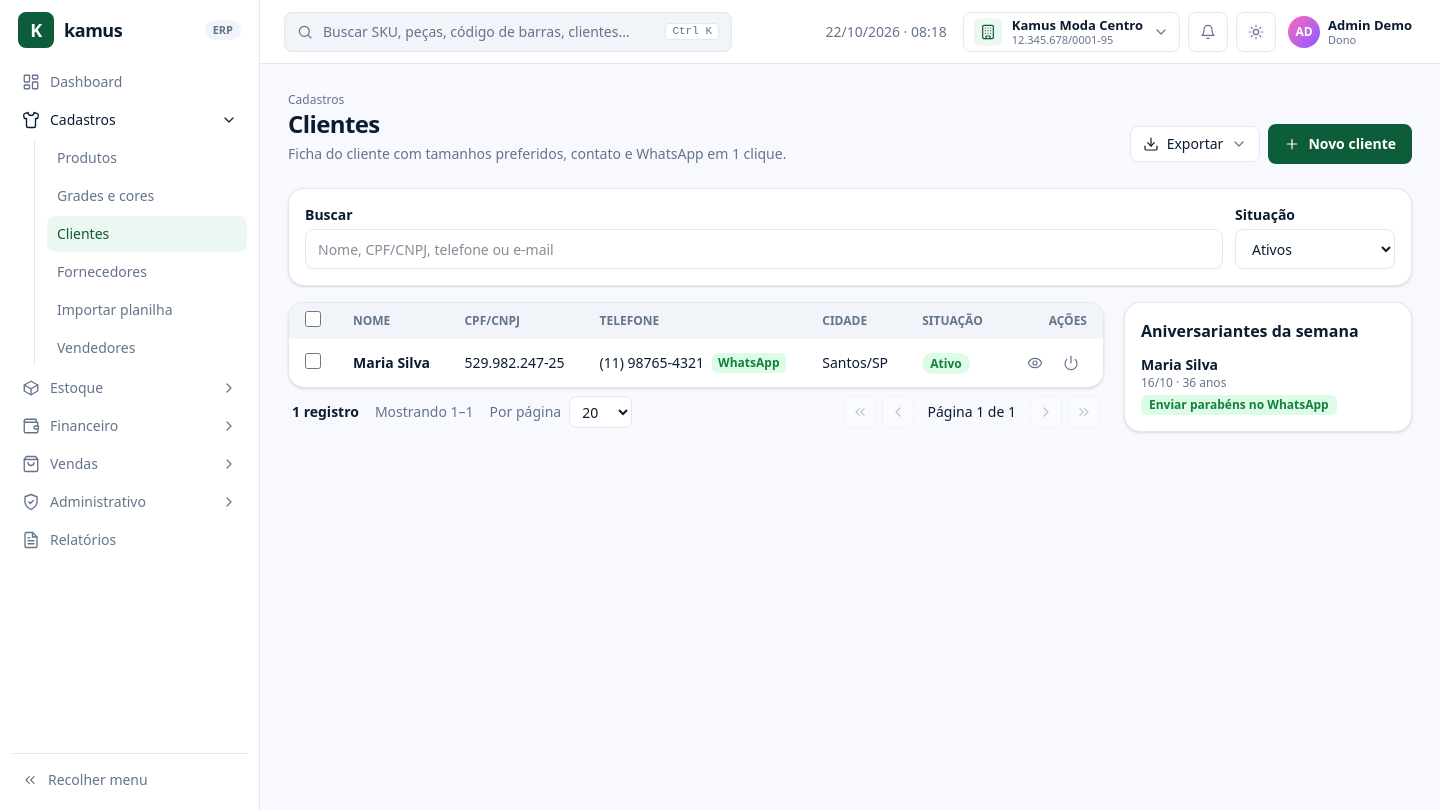
Test: Cadastros → Clientes › seleção: inativa em lote e exporta só os selecionados
Expected: the cell "Maria Silva" is shown, [337,339,448,387]
Step 1. Click the checkbox named "Selecionar Maria Silva" → x=313, y=360, box [305,352,321,368]
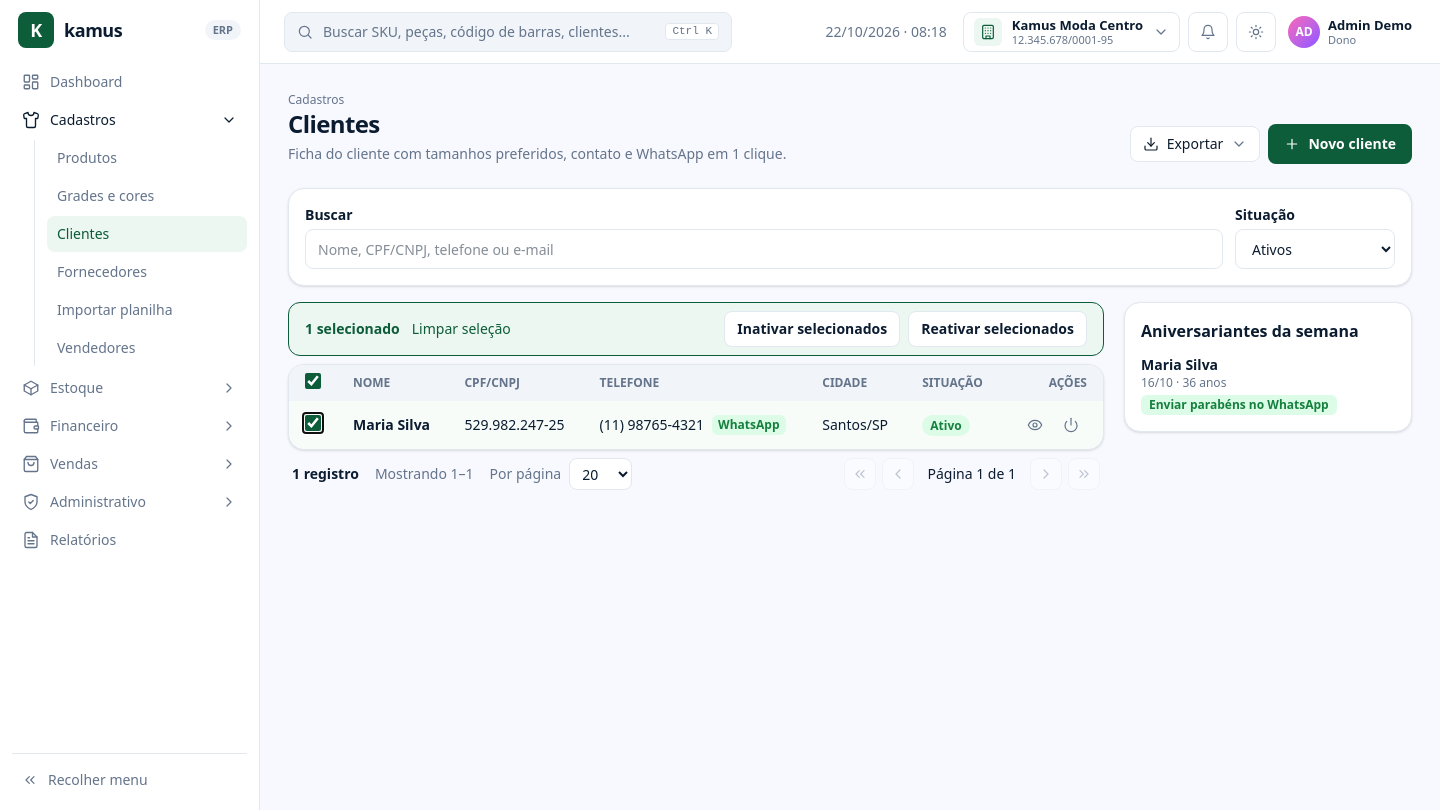
Expected: the element "seleção" shows "1 selecionado", [305,319,400,338]
Step 2. Click the button "Exportar" → x=1195, y=144, box [1130,126,1260,162]
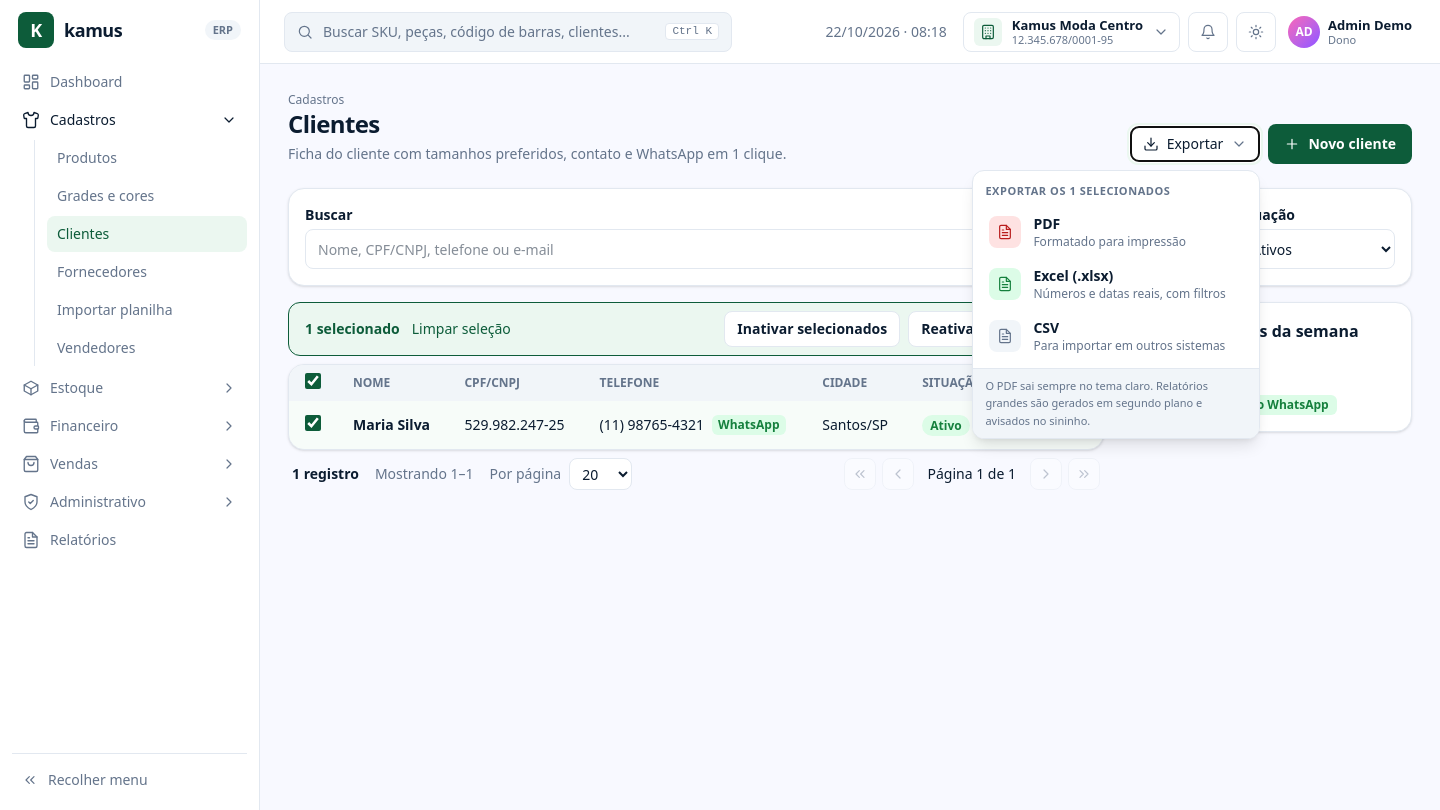
Step 3. Click the menu item "CSV Para importar em outros sistemas" → x=1116, y=336, box [979,310,1253,362]
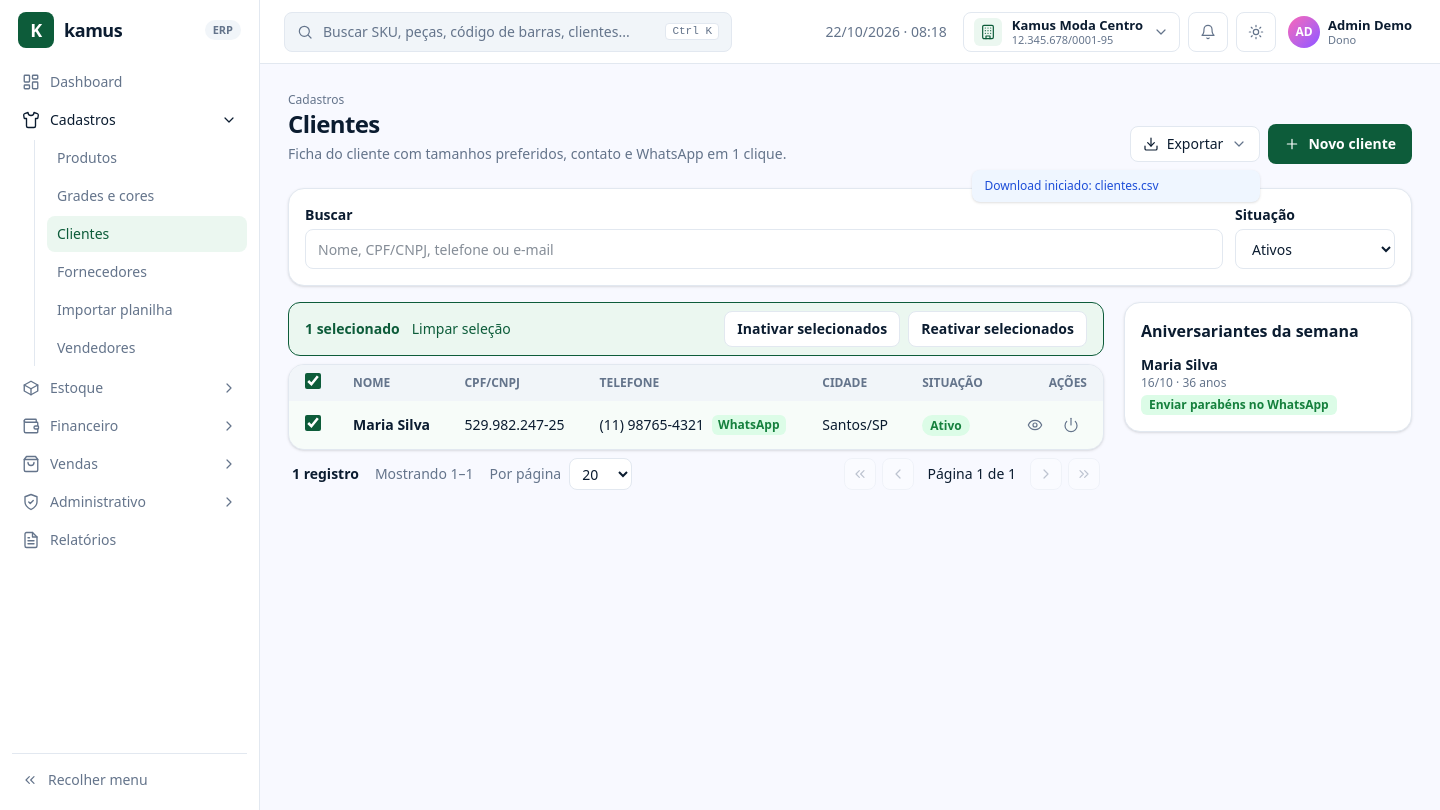
Step 4. Click the button "Inativar selecionados" → x=812, y=329, box [724,311,900,347]
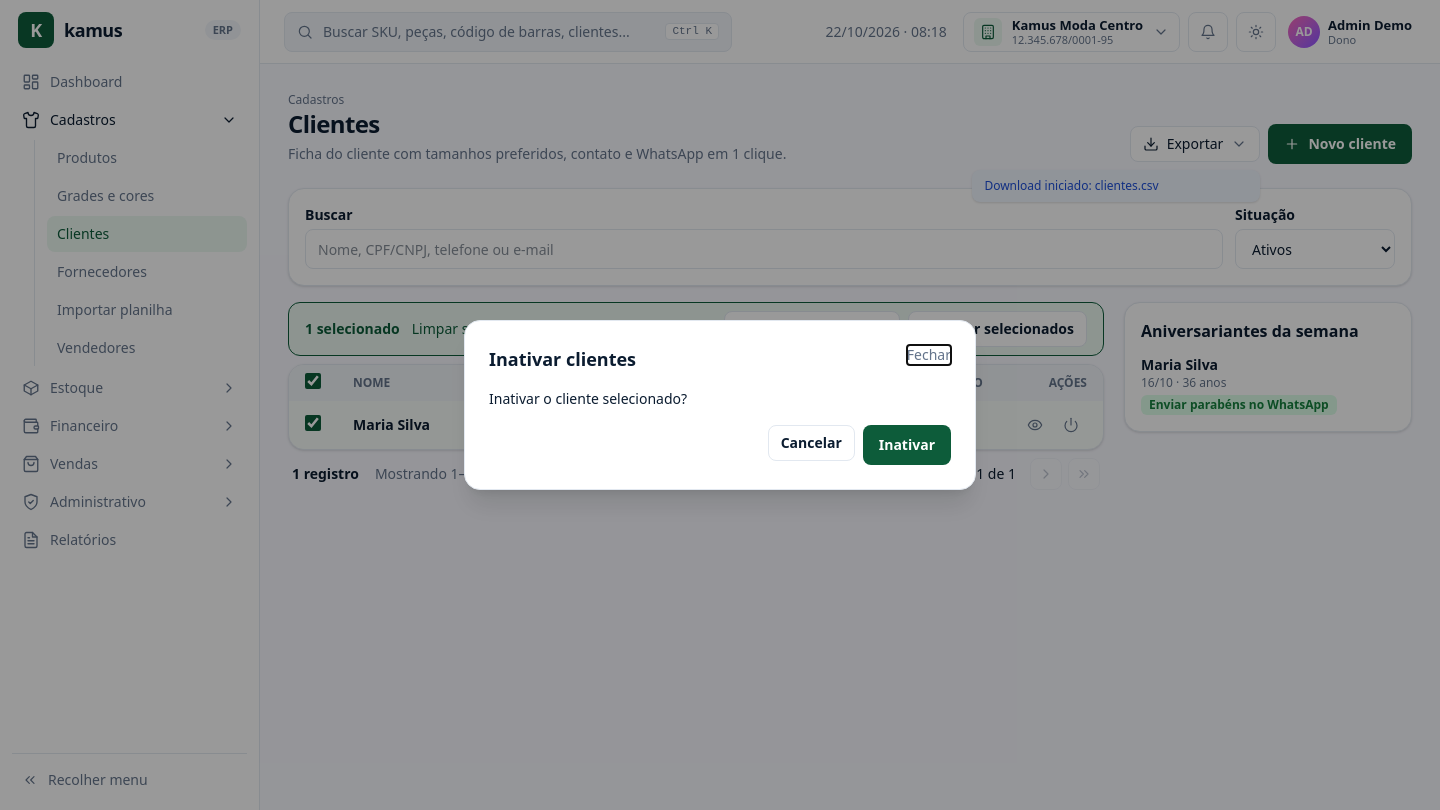
Step 5. Click the button "Inativar" → x=907, y=445, box [863,425,951,465]
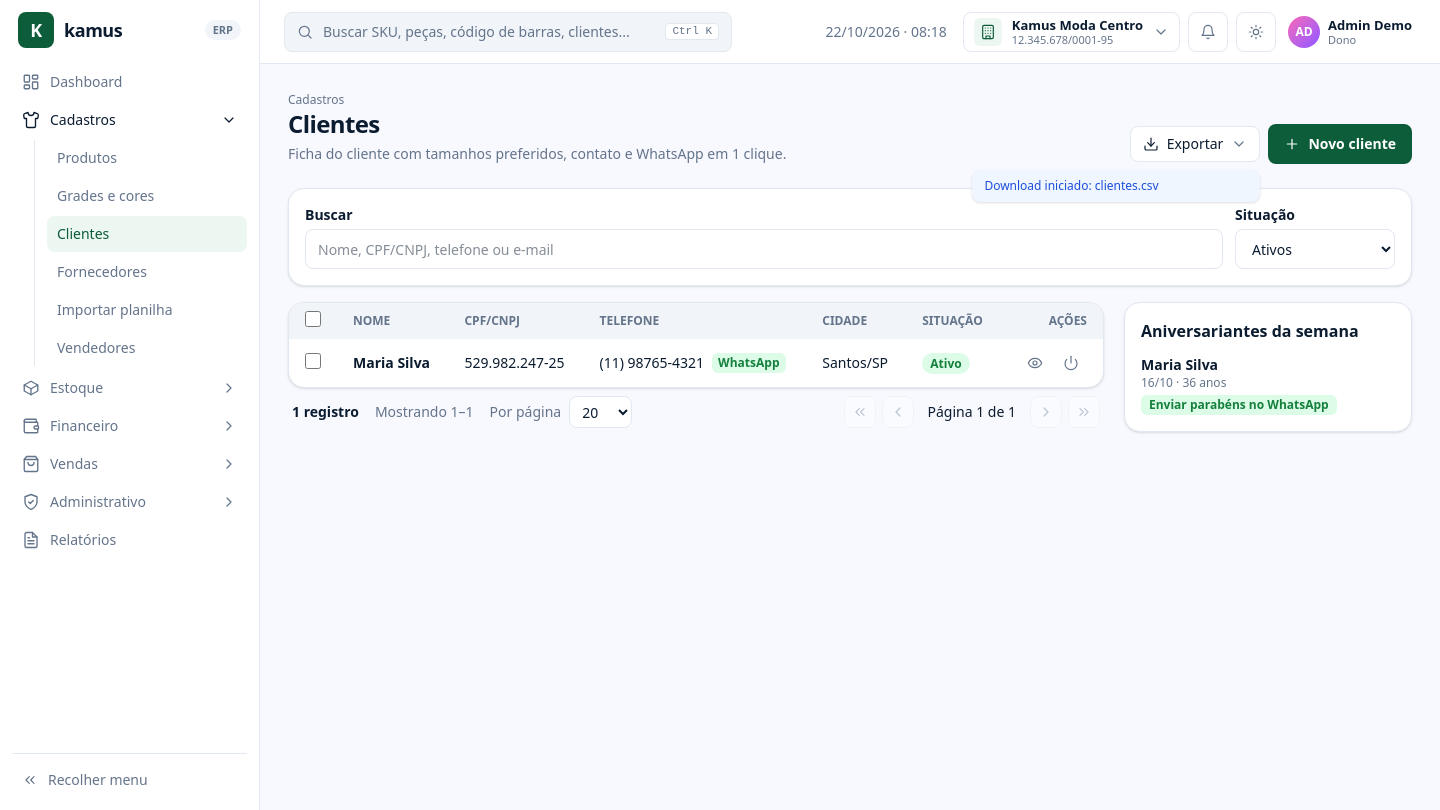
Expected: the button "seleção" is gone
